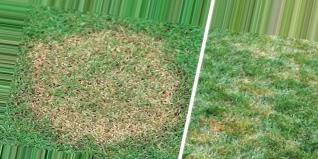patch: (38, 41, 122, 127), (108, 30, 163, 125)
